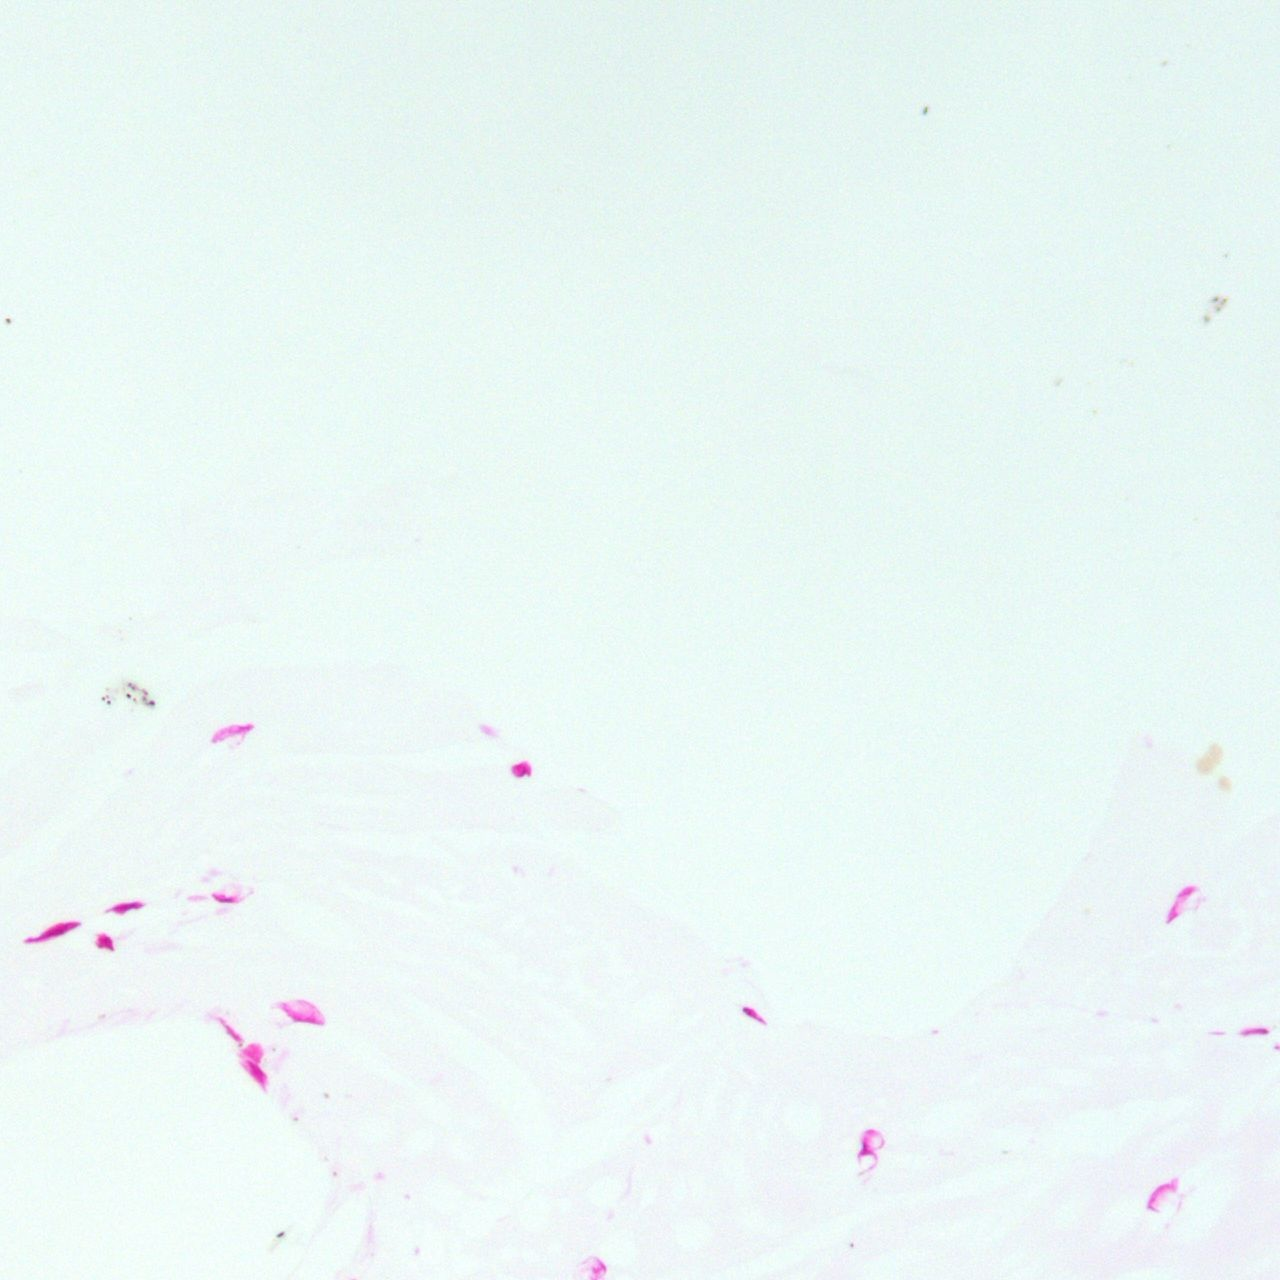dust: (275, 1230, 285, 1238), (1203, 315, 1208, 322), (5, 316, 11, 324), (922, 105, 927, 114), (148, 699, 154, 704), (125, 693, 131, 697), (1223, 298, 1227, 302), (105, 700, 110, 704), (101, 696, 105, 700), (127, 682, 131, 686), (132, 697, 136, 701), (131, 686, 134, 690)
nucleus-FG: (1160, 877, 1208, 933), (22, 913, 82, 949), (207, 715, 256, 745), (107, 899, 144, 917), (741, 1003, 770, 1026), (511, 760, 532, 777), (95, 933, 114, 951), (1239, 1027, 1269, 1036), (212, 893, 238, 903)
